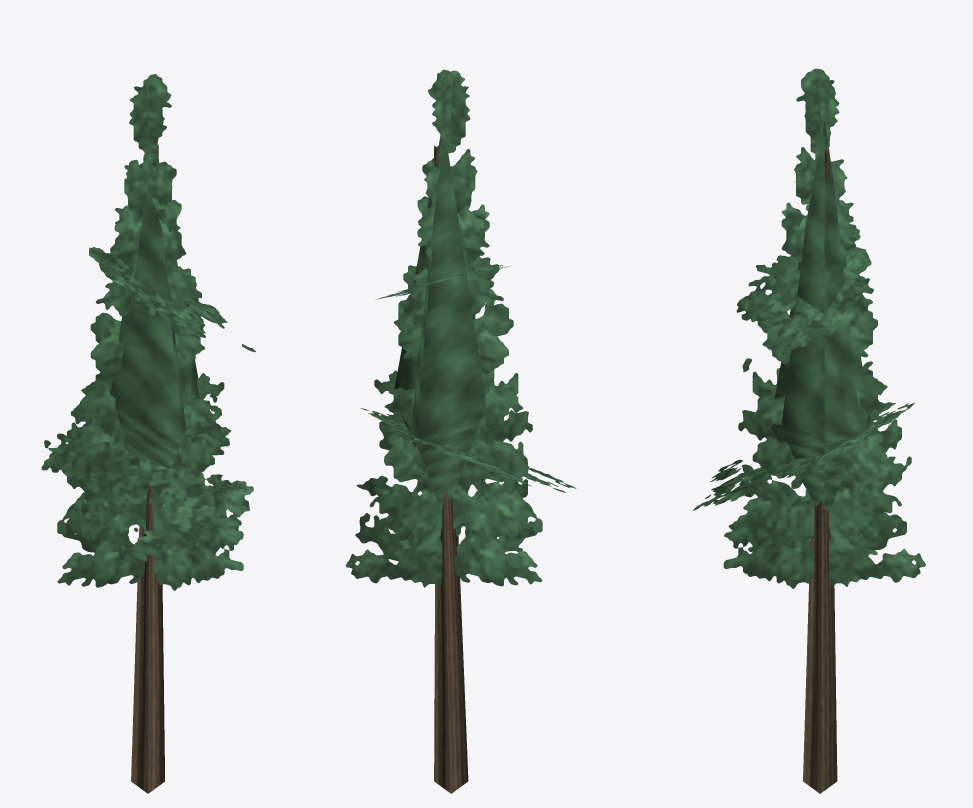
File: tree-conifer-1.glb
The picture shows the model from 3 angles, left to right: view 1: azimuth 30°, elevation 25°; view 2: azimuth 150°, elevation 25°; view 3: azimuth 270°, elevation 25°; orthographic projection.
Visible parts, largest first — view 1: tree-conifer-1; view 2: tree-conifer-1; view 3: tree-conifer-1.
Boxes of the visible parts, x1=… form: tree-conifer-1: x1=41, y1=74, x2=255, y2=793; tree-conifer-1: x1=345, y1=69, x2=576, y2=793; tree-conifer-1: x1=693, y1=68, x2=925, y2=793.
Size of the model in its own units: 0.4144 by 1.08 by 0.4097.
1 material, 1 textured.
